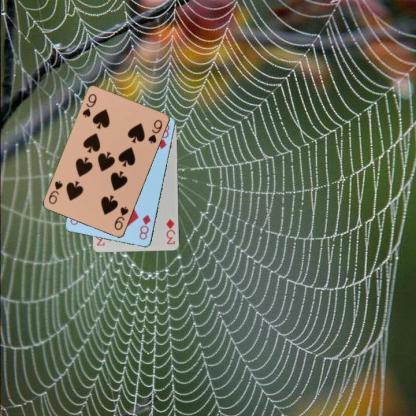3d: (163, 216, 177, 246)
8d: (137, 212, 152, 241)
9s: (112, 204, 130, 232), (80, 91, 98, 119)
